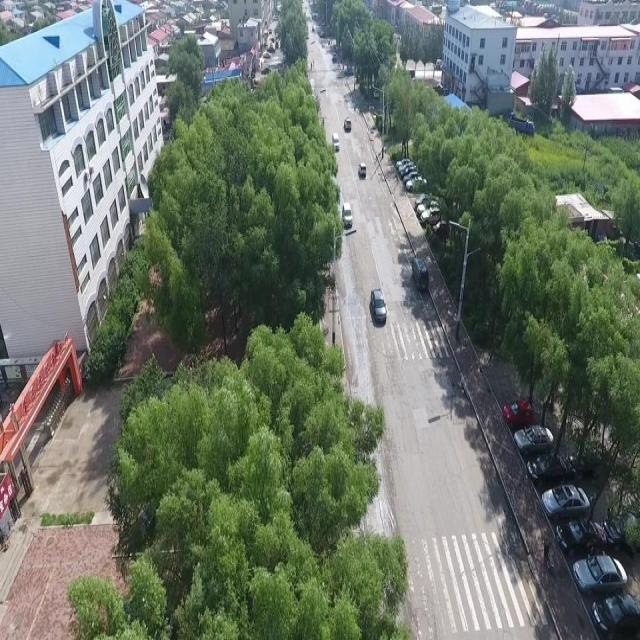car: (502, 398, 534, 428), (411, 256, 429, 292), (370, 288, 387, 324), (341, 202, 353, 228), (358, 161, 366, 179), (332, 132, 339, 152), (343, 118, 351, 132)
tree: (68, 309, 410, 638), (136, 57, 343, 357)
